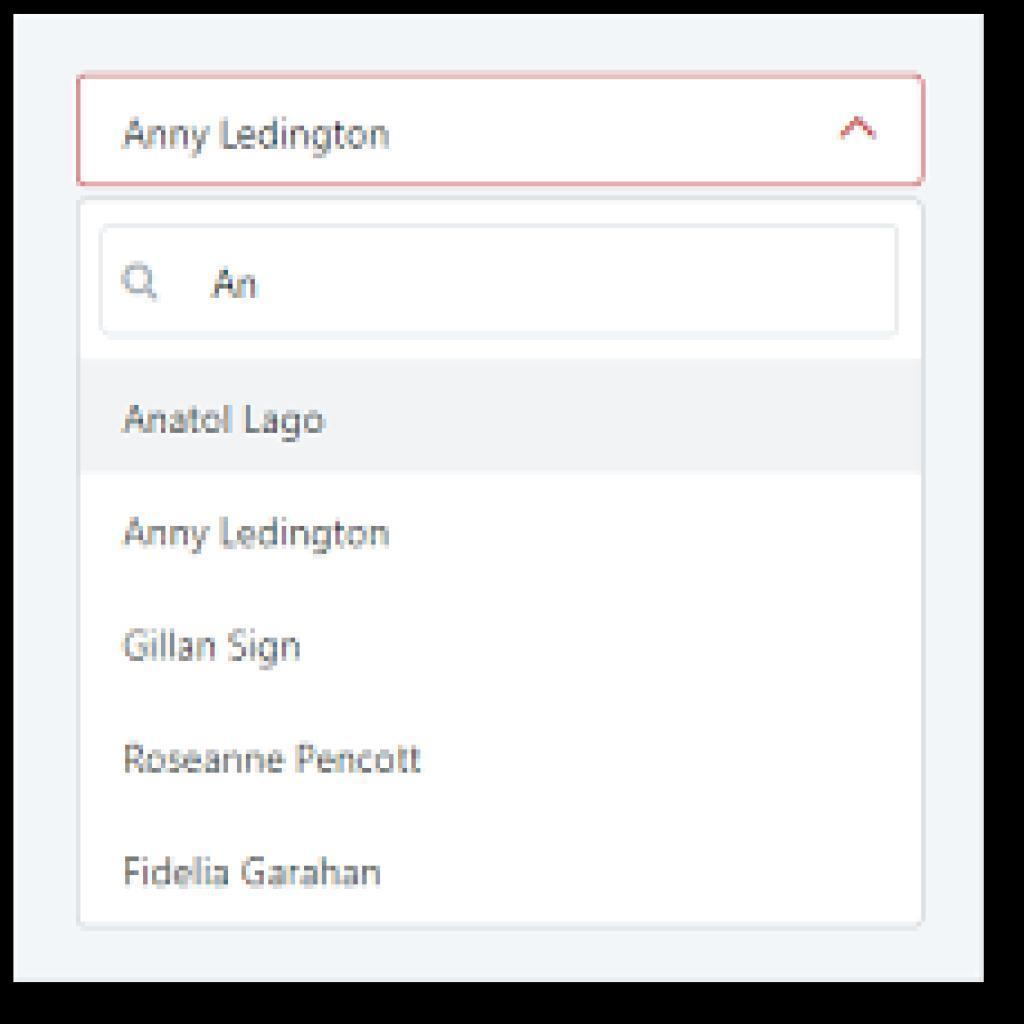button: (80, 364, 925, 472)
dropdown: (80, 78, 927, 187)
input: (102, 224, 899, 334)
